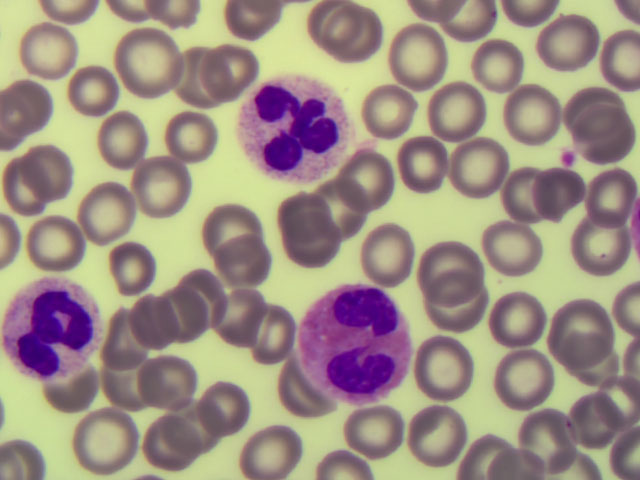Platelets: (554, 147, 576, 171)
RBC: (231, 419, 293, 480), (20, 24, 82, 84), (60, 58, 122, 118), (120, 29, 182, 89), (158, 45, 220, 105), (202, 36, 264, 96), (150, 109, 212, 169), (136, 167, 198, 227), (98, 90, 160, 150), (73, 181, 135, 241), (30, 213, 92, 273), (25, 144, 87, 204), (3, 162, 65, 222), (92, 230, 154, 290), (118, 287, 180, 347), (159, 285, 221, 345), (166, 269, 228, 329), (195, 237, 257, 297), (201, 198, 263, 258), (216, 289, 278, 349), (233, 299, 295, 359), (201, 379, 263, 439), (173, 402, 235, 462), (143, 414, 205, 474), (65, 413, 127, 473), (133, 360, 195, 420), (103, 356, 165, 416), (38, 363, 100, 423), (341, 401, 403, 461), (395, 404, 457, 464), (416, 334, 478, 394), (432, 286, 494, 346), (418, 244, 480, 304), (358, 228, 420, 288), (284, 218, 346, 278), (278, 189, 340, 249), (304, 177, 366, 237), (335, 156, 397, 216), (389, 135, 451, 195), (366, 79, 428, 139), (382, 26, 444, 86), (347, 15, 409, 75), (430, 79, 492, 139), (465, 145, 527, 205), (500, 171, 562, 231), (480, 215, 542, 275), (488, 285, 550, 345), (498, 340, 560, 400), (509, 401, 571, 461), (565, 392, 627, 452), (578, 363, 640, 423), (578, 338, 640, 398), (542, 297, 604, 357), (566, 208, 628, 268), (576, 171, 638, 231), (536, 171, 598, 231), (568, 98, 630, 158), (560, 83, 622, 143), (510, 89, 572, 149), (469, 45, 531, 105), (530, 17, 592, 77), (304, 1, 366, 60), (222, 1, 283, 30)
WBC: (242, 73, 348, 178), (304, 288, 410, 393), (4, 272, 110, 377)
